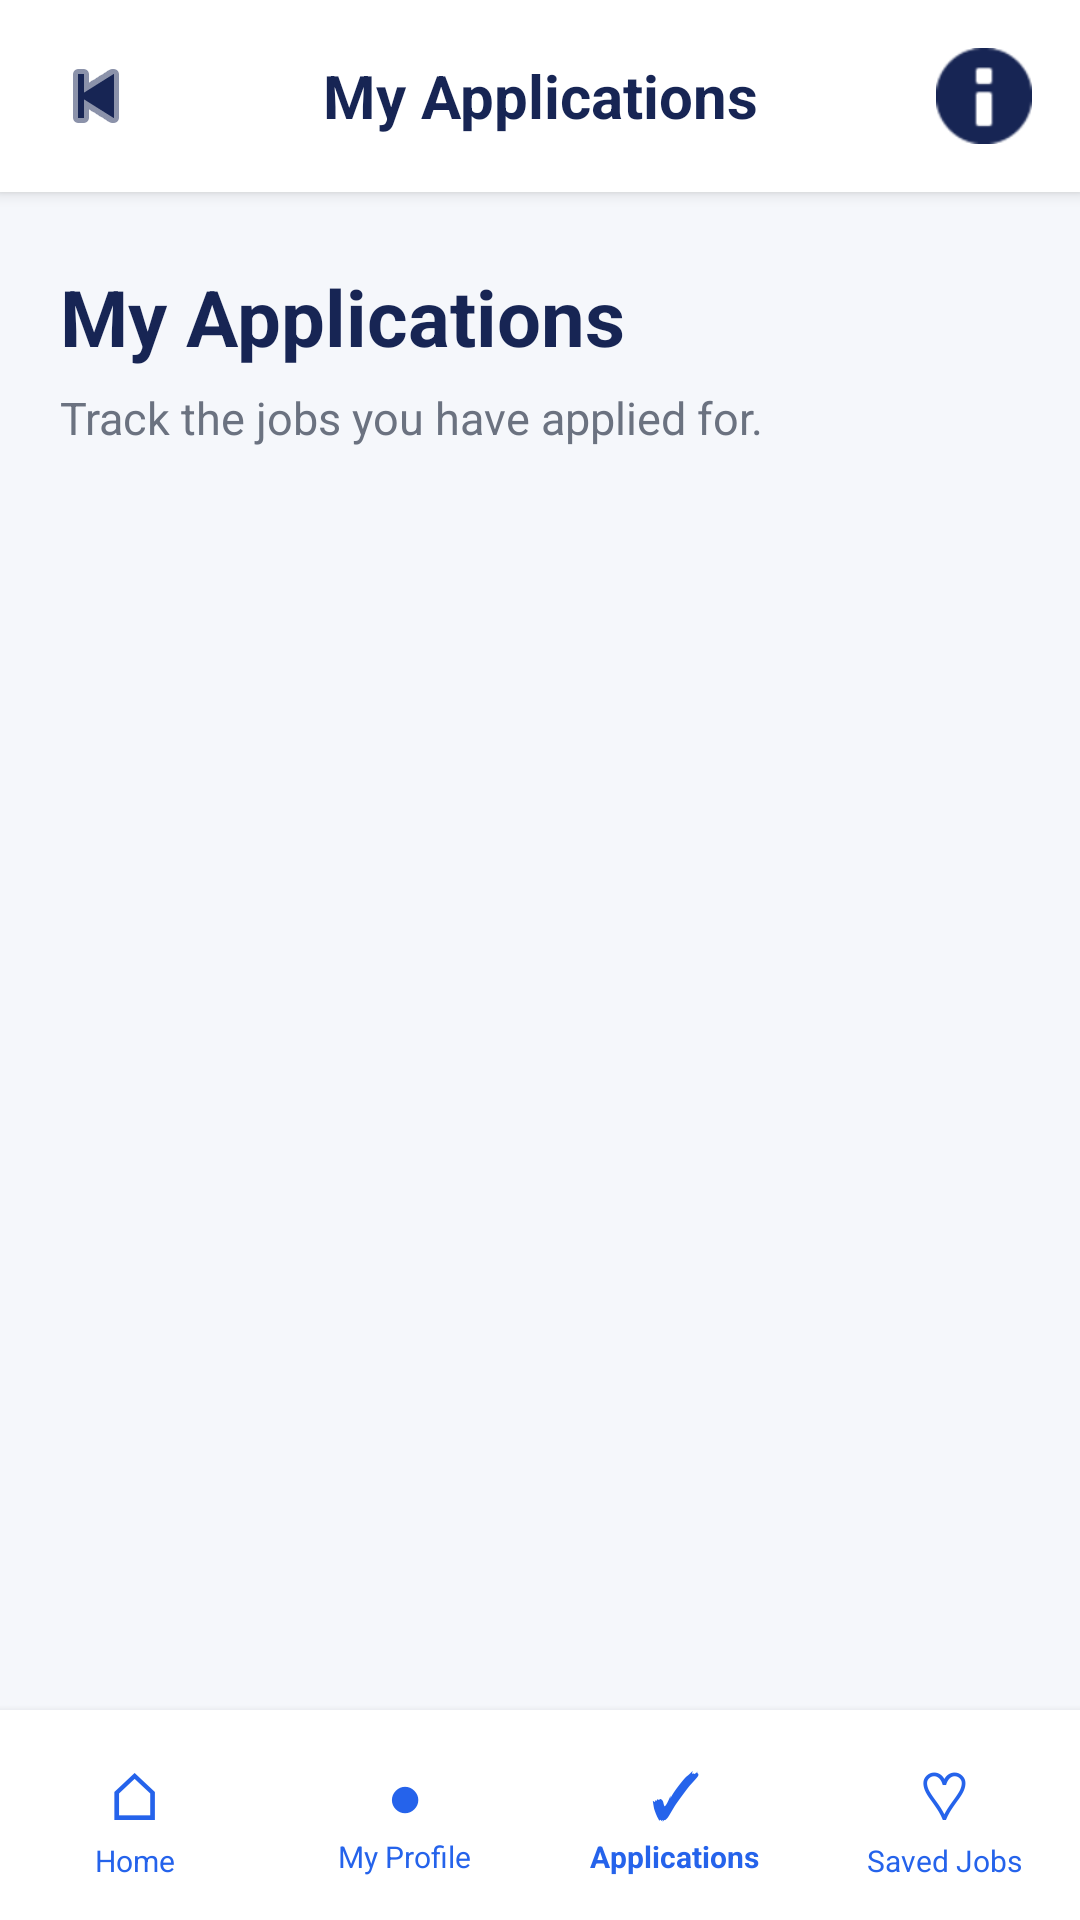

Named icons in this screenshot (1080*1920) and their bounding boxes, (x1, y1, x2, y2):
Back: (73, 69, 119, 123)
